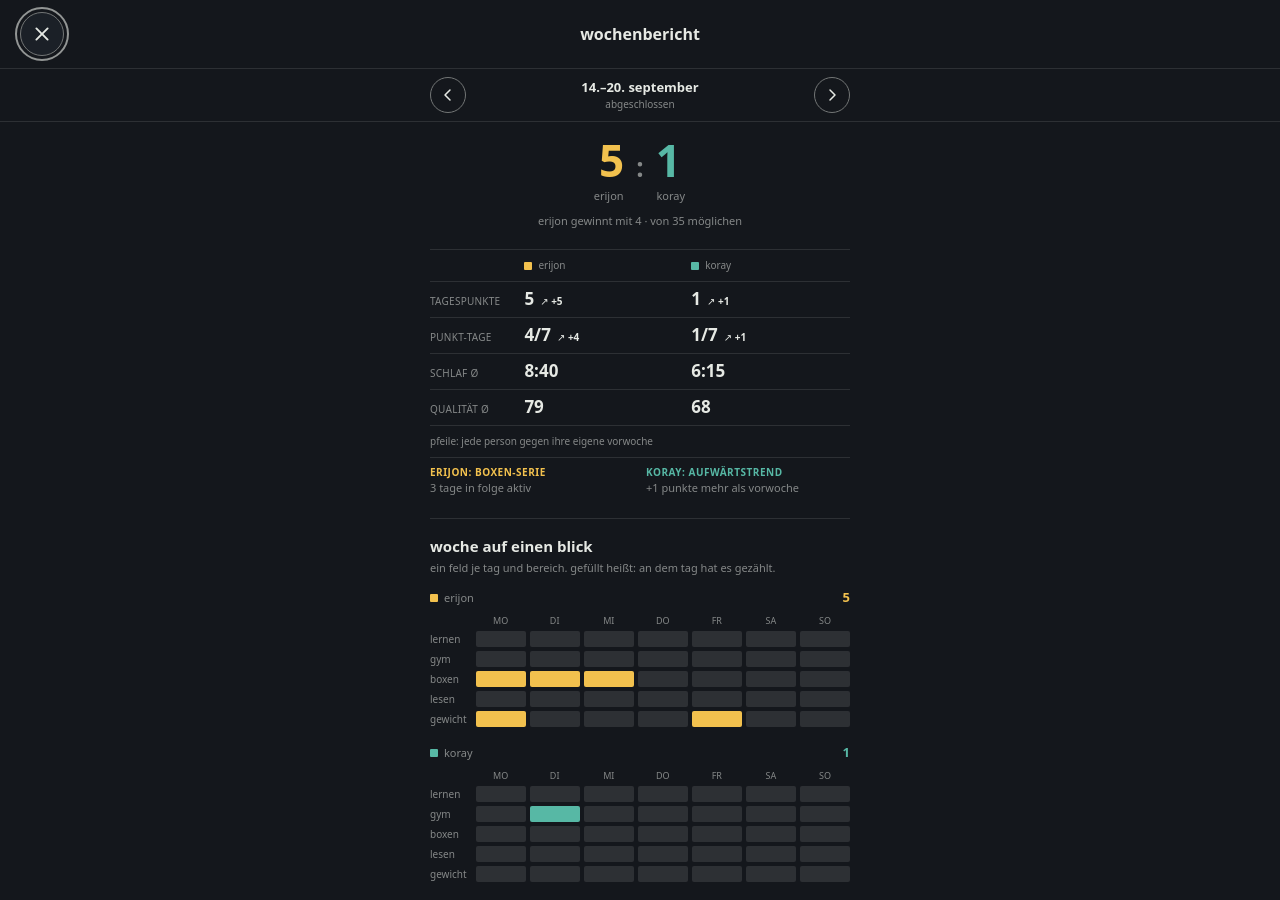
Test: WochenberichtBlatt › zeigt beim antippen einer raster-zelle details an
This screenshot has width=1280, height=900.
Click the button named "erijon, lernen am mo: nicht gezählt": (501, 639) [476,631,526,647]
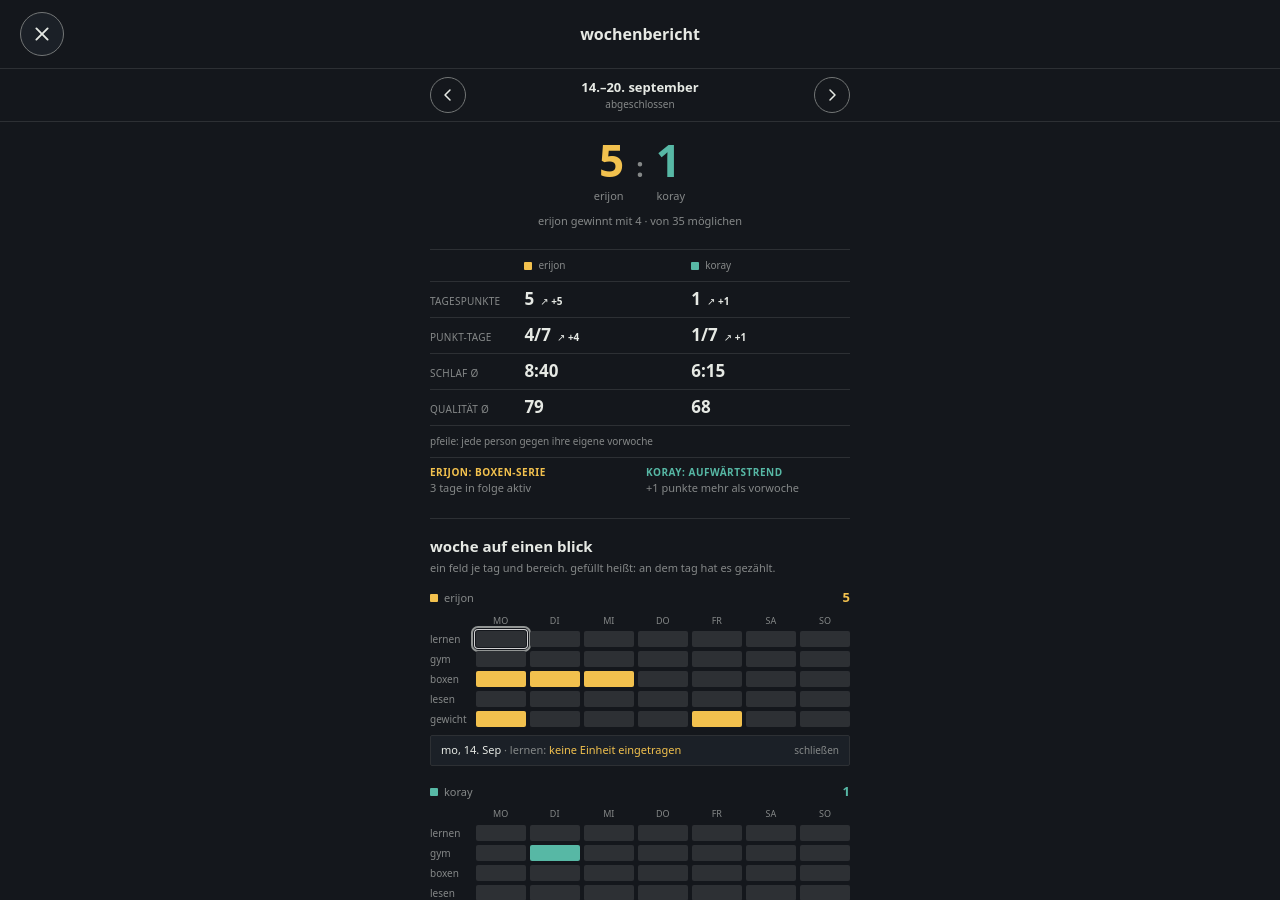
Expected: the button "schließen" is shown, [794,743,839,758]
